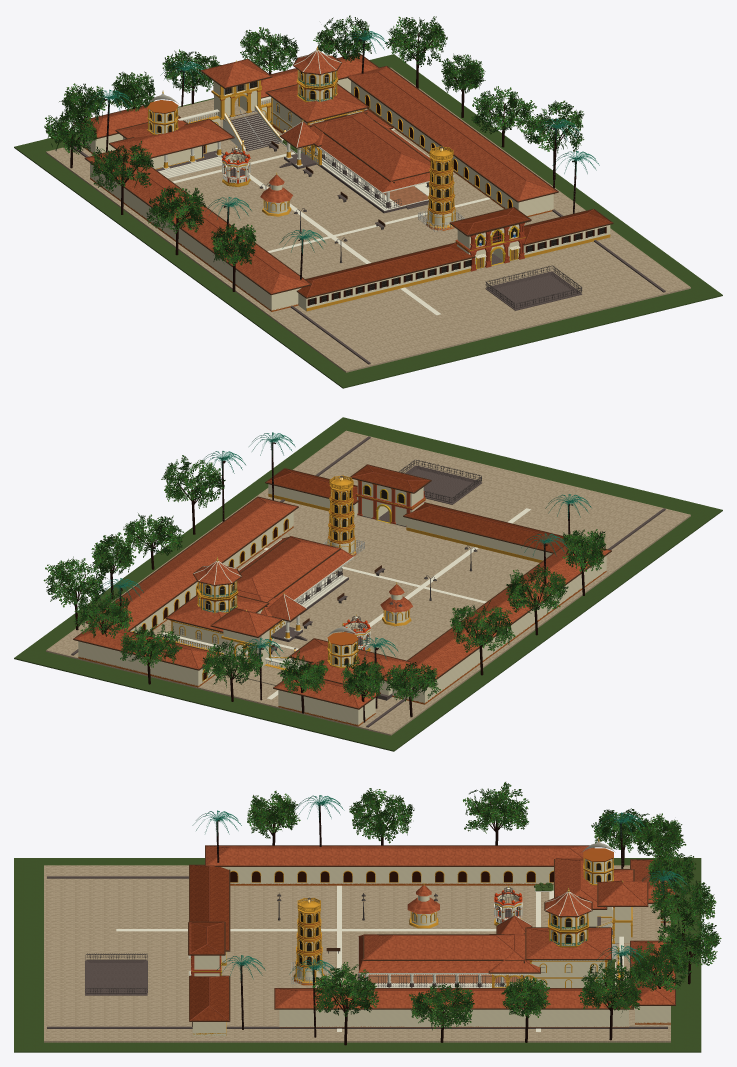
File: Shri-Kamakshi-Temple-Shiroda.glb
3 renders of one model, top to bottom at view 1: azimuth 30°, elevation 25°; view 2: azimuth 150°, elevation 25°; view 3: azimuth 270°, elevation 25°, orthographic. The views are drawn at different scales.
Visible parts, largest first — view 1: Courtyard paving (×2), Mangalore terracotta tiles (×5), Tropical foliage, Garden ground, Cream lime plaster (×5), Golden ochre architectural trim (×5), Weathered rear wing tiles, Ivory columns and fascia (×4), Polished dark stone pillar bases (×3), Aged dark teak roof structure (×2), Green iron balcony railings, Tree bark (+6 smaller); view 2: Courtyard paving (×2), Mangalore terracotta tiles (×5), Tropical foliage, Garden ground, Cream lime plaster (×4), Weathered rear wing tiles, Golden ochre architectural trim (×4), Aged dark teak roof structure (×2), Ivory columns and fascia (×3), Tree bark, Green iron balcony railings, Polished dark stone pillar bases (×2) (+4 smaller); view 3: Courtyard paving (×2), Mangalore terracotta tiles (×5), Tropical foliage, Garden ground, Cream lime plaster (×5), Weathered rear wing tiles, Golden ochre architectural trim (×4), Polished dark stone pillar bases (×2), Aged dark teak roof structure (×4), Ivory columns and fascia (×2), Green iron balcony railings, Tree bark (+5 smaller).
Boxes of the visible parts, x1,y1,x2,y2 form: Courtyard paving (×2): [46, 67, 690, 372]; Mangalore terracotta tiles (×5): [80, 51, 556, 293]; Tropical foliage: [44, 15, 584, 265]; Garden ground: [14, 54, 722, 388]; Cream lime plaster (×5): [78, 70, 610, 310]; Golden ochre architectural trim (×5): [163, 70, 610, 311]; Weathered rear wing tiles: [298, 208, 610, 296]; Ivory columns and fascia (×4): [158, 81, 490, 315]; Polished dark stone pillar bases (×3): [73, 111, 665, 364]; Aged dark teak roof structure (×2): [73, 53, 613, 298]; Green iron balcony railings: [86, 30, 599, 253]; Tree bark: [57, 31, 576, 291]; Courtyard paving (×2): [46, 430, 690, 735]; Mangalore terracotta tiles (×5): [75, 497, 609, 707]; Tropical foliage: [43, 455, 605, 701]; Garden ground: [14, 417, 722, 751]; Cream lime plaster (×4): [78, 481, 606, 725]; Weathered rear wing tiles: [267, 465, 588, 552]; Golden ochre architectural trim (×4): [132, 475, 542, 681]; Aged dark teak roof structure (×2): [73, 464, 611, 709]; Ivory columns and fascia (×3): [162, 508, 530, 699]; Tree bark: [61, 442, 595, 722]; Green iron balcony railings: [98, 432, 591, 662]; Polished dark stone pillar bases (×2): [71, 436, 665, 727]; Courtyard paving (×2): [44, 865, 670, 1042]; Mangalore terracotta tiles (×5): [206, 846, 674, 1008]; Tropical foliage: [247, 782, 721, 1030]; Garden ground: [14, 858, 701, 1052]; Cream lime plaster (×5): [192, 859, 670, 1035]; Weathered rear wing tiles: [189, 865, 228, 1020]; Golden ochre architectural trim (×4): [230, 858, 663, 987]; Polished dark stone pillar bases (×2): [47, 876, 667, 1028]; Aged dark teak roof structure (×4): [188, 845, 675, 1021]; Ivory columns and fascia (×2): [116, 885, 540, 1031]; Green iron balcony railings: [192, 795, 687, 984]; Tree bark: [216, 802, 703, 1045].
Bounding box in the file's own units: 83.31 × 17.21 × 118.
30 materials, 21 textured.
